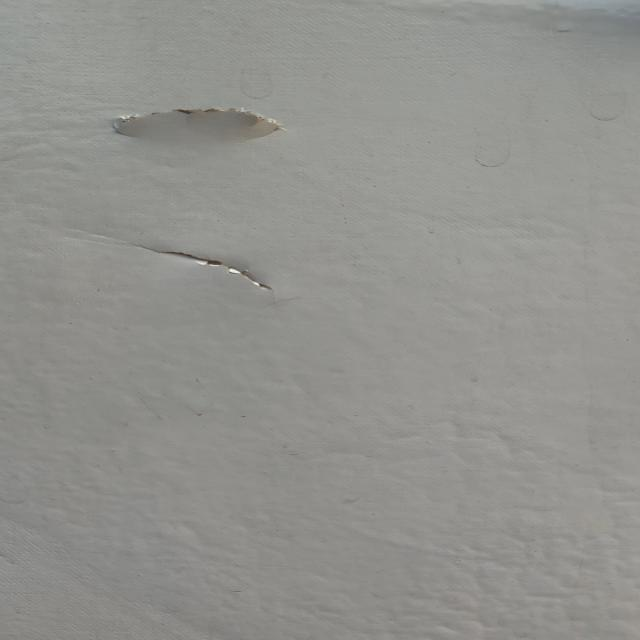Scratches: (146, 237, 297, 299), (104, 100, 283, 145)
